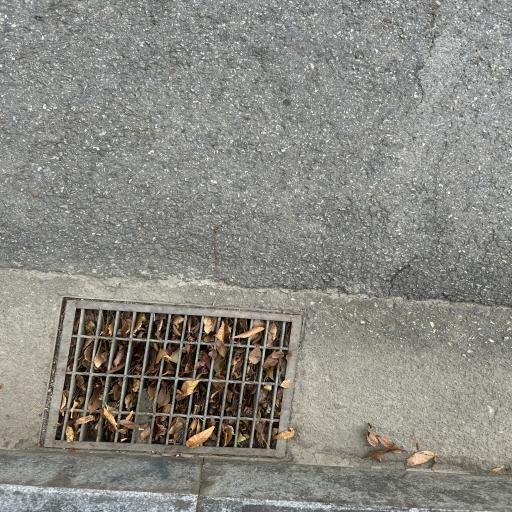debris: (187, 419, 215, 447), (176, 382, 197, 411), (118, 413, 139, 440), (263, 351, 283, 379), (158, 381, 176, 412), (208, 384, 225, 415), (95, 340, 111, 372), (89, 378, 106, 408), (197, 347, 213, 378), (78, 414, 99, 437), (73, 376, 88, 408), (147, 343, 163, 373), (225, 384, 240, 416), (108, 378, 123, 409), (112, 342, 127, 373), (213, 348, 229, 377), (181, 345, 196, 375), (258, 386, 272, 418), (66, 414, 83, 440), (152, 417, 169, 443), (103, 409, 117, 440), (131, 343, 145, 374), (165, 345, 179, 375), (247, 350, 261, 380), (135, 313, 151, 339), (243, 386, 256, 418), (125, 380, 139, 409), (231, 348, 244, 379), (220, 420, 236, 445), (216, 319, 233, 342), (79, 340, 92, 369), (170, 418, 185, 442), (194, 384, 206, 414), (102, 311, 116, 336), (202, 318, 217, 341), (238, 422, 251, 448), (251, 321, 265, 345), (155, 314, 168, 339), (235, 320, 248, 345), (256, 422, 268, 447), (268, 322, 281, 345), (187, 318, 200, 340), (118, 313, 130, 336), (86, 311, 97, 334), (207, 421, 218, 444), (172, 317, 183, 339), (150, 380, 156, 399)
drain: (43, 300, 302, 460)
